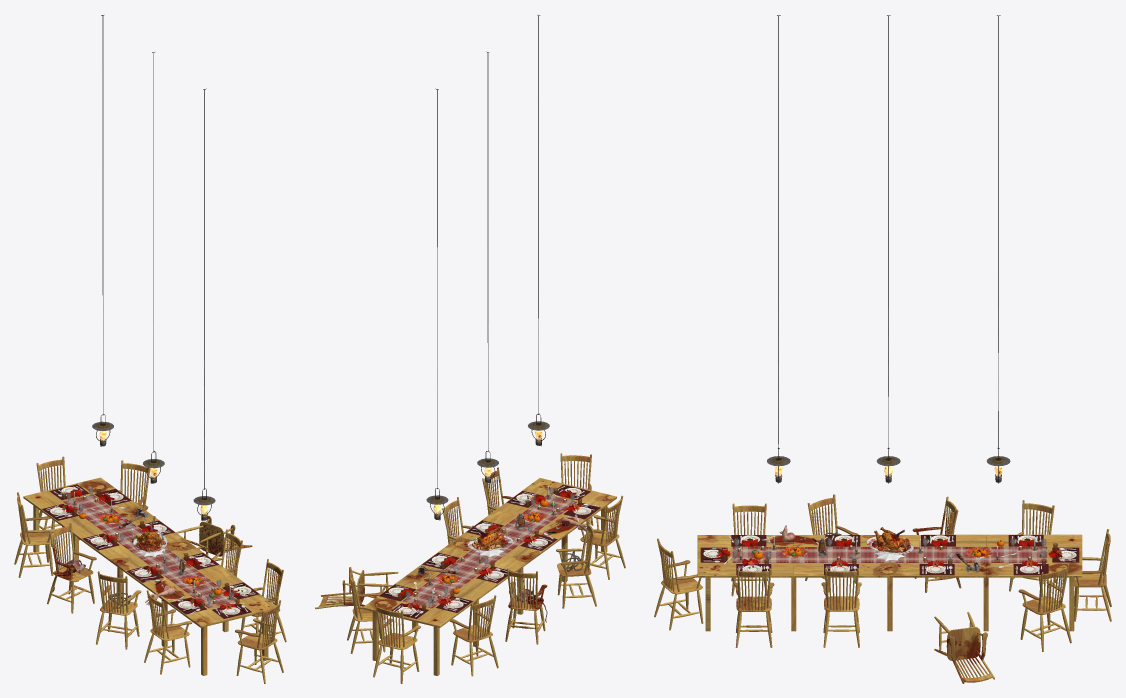
Rendered from thanksgiving.gltf.
3 renders of one model, left to right at view 1: azimuth 30°, elevation 25°; view 2: azimuth 150°, elevation 25°; view 3: azimuth 270°, elevation 25°, orthographic. The views are drawn at different scales.
Visible parts, largest first — view 1: mk_Chair_4, mk_Table, Atlas_1, mk_Placemats, mk_Chair_2, ColorAtlas, mk_Chair_3, mk_Plates, mk_Chair_1, Atlas_2, Textured_Aggregated, Atlas_3 (+1 smaller); view 2: mk_Chair_4, mk_Table, Atlas_1, mk_Placemats, mk_Chair_2, ColorAtlas, mk_Chair_3, mk_Plates, Atlas_2, Textured_Aggregated, mk_Turkey-Knife, Atlas_3 (+1 smaller); view 3: mk_Chair_4, mk_Table, Atlas_1, mk_Placemats, mk_Chair_3, mk_Chair_1, ColorAtlas, mk_Plates, mk_Turkey-Knife, Atlas_3, Atlas_2, mk_Chair_2.
Part boxes in pixels (x1,y1,x2,y2): mk_Chair_4: (14,456,283,683); mk_Table: (23,477,275,675); Atlas_1: (63,15,237,608); mk_Placemats: (42,484,259,618); mk_Chair_2: (47,523,96,613); ColorAtlas: (46,486,255,616); mk_Chair_3: (176,515,252,558); mk_Plates: (50,487,251,614); mk_Chair_1: (240,559,286,642); Atlas_2: (61,487,239,608); Textured_Aggregated: (52,508,185,608); Atlas_3: (62,489,242,609); mk_Chair_4: (347,453,625,683); mk_Table: (362,478,616,675); Atlas_1: (402,14,576,608); mk_Placemats: (379,484,600,619); mk_Chair_2: (505,568,547,644); ColorAtlas: (384,486,598,617); mk_Chair_3: (315,567,398,616); mk_Plates: (388,488,591,614); Atlas_2: (397,487,582,610); Textured_Aggregated: (418,513,589,622); mk_Turkey-Knife: (467,525,512,557); Atlas_3: (400,489,579,608); mk_Chair_4: (654,494,1111,651); mk_Table: (697,534,1082,631); Atlas_1: (732,15,1047,562); mk_Placemats: (700,535,1079,575); mk_Chair_3: (934,612,994,683); mk_Chair_1: (734,568,774,647); ColorAtlas: (703,535,1076,573); mk_Plates: (703,535,1076,573); mk_Turkey-Knife: (866,527,913,561); Atlas_3: (717,538,1061,568); Atlas_2: (722,538,1057,565); mk_Chair_2: (912,496,961,592).
Bounding box in the file's own units: 9.25 × 22.64 × 15.64.
